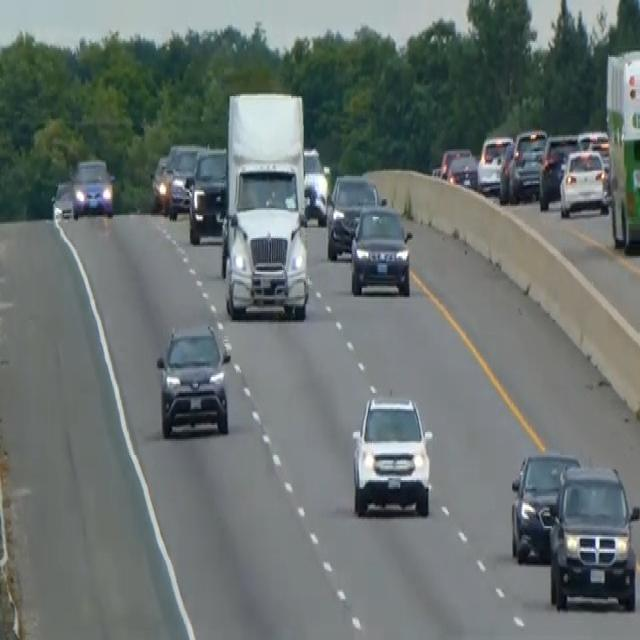bus: (604, 46, 639, 254)
car: (547, 462, 639, 612), (350, 391, 432, 517), (155, 320, 232, 439), (509, 449, 580, 564), (349, 201, 412, 297), (325, 170, 383, 260), (186, 146, 227, 244), (558, 146, 609, 217), (538, 132, 580, 210), (164, 140, 205, 218), (510, 126, 547, 201), (71, 156, 114, 218), (476, 133, 512, 192), (301, 146, 328, 224), (577, 128, 611, 174), (149, 153, 171, 211), (446, 150, 478, 188), (438, 144, 470, 180), (51, 178, 75, 220)
lorry: (219, 89, 310, 320)
